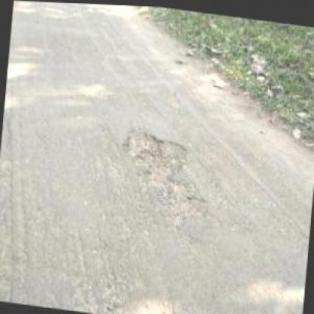Hueco: (119, 125, 195, 178), (164, 176, 213, 227)
